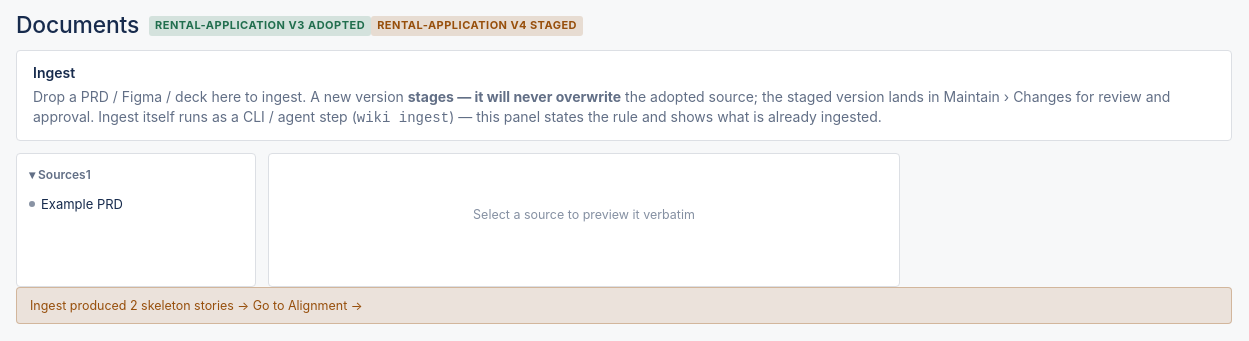
Test case: DocumentsPage › renders only the sources tree and previews the selected source verbatim
Check: the text "Sources" is shown, box [38, 167, 86, 182]
Click the text "Example PRD" at [76, 204], box [29, 196, 123, 212]
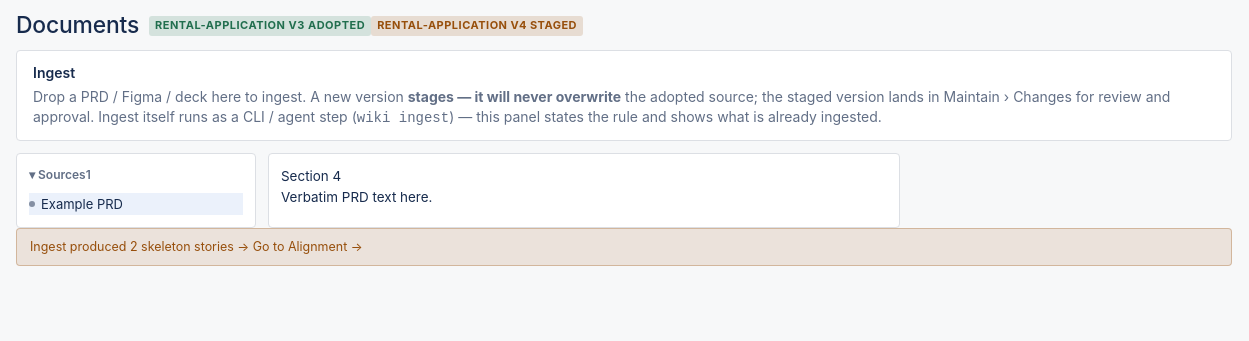
Check: the text "Verbatim PRD text here." is shown, box [281, 189, 432, 205]
